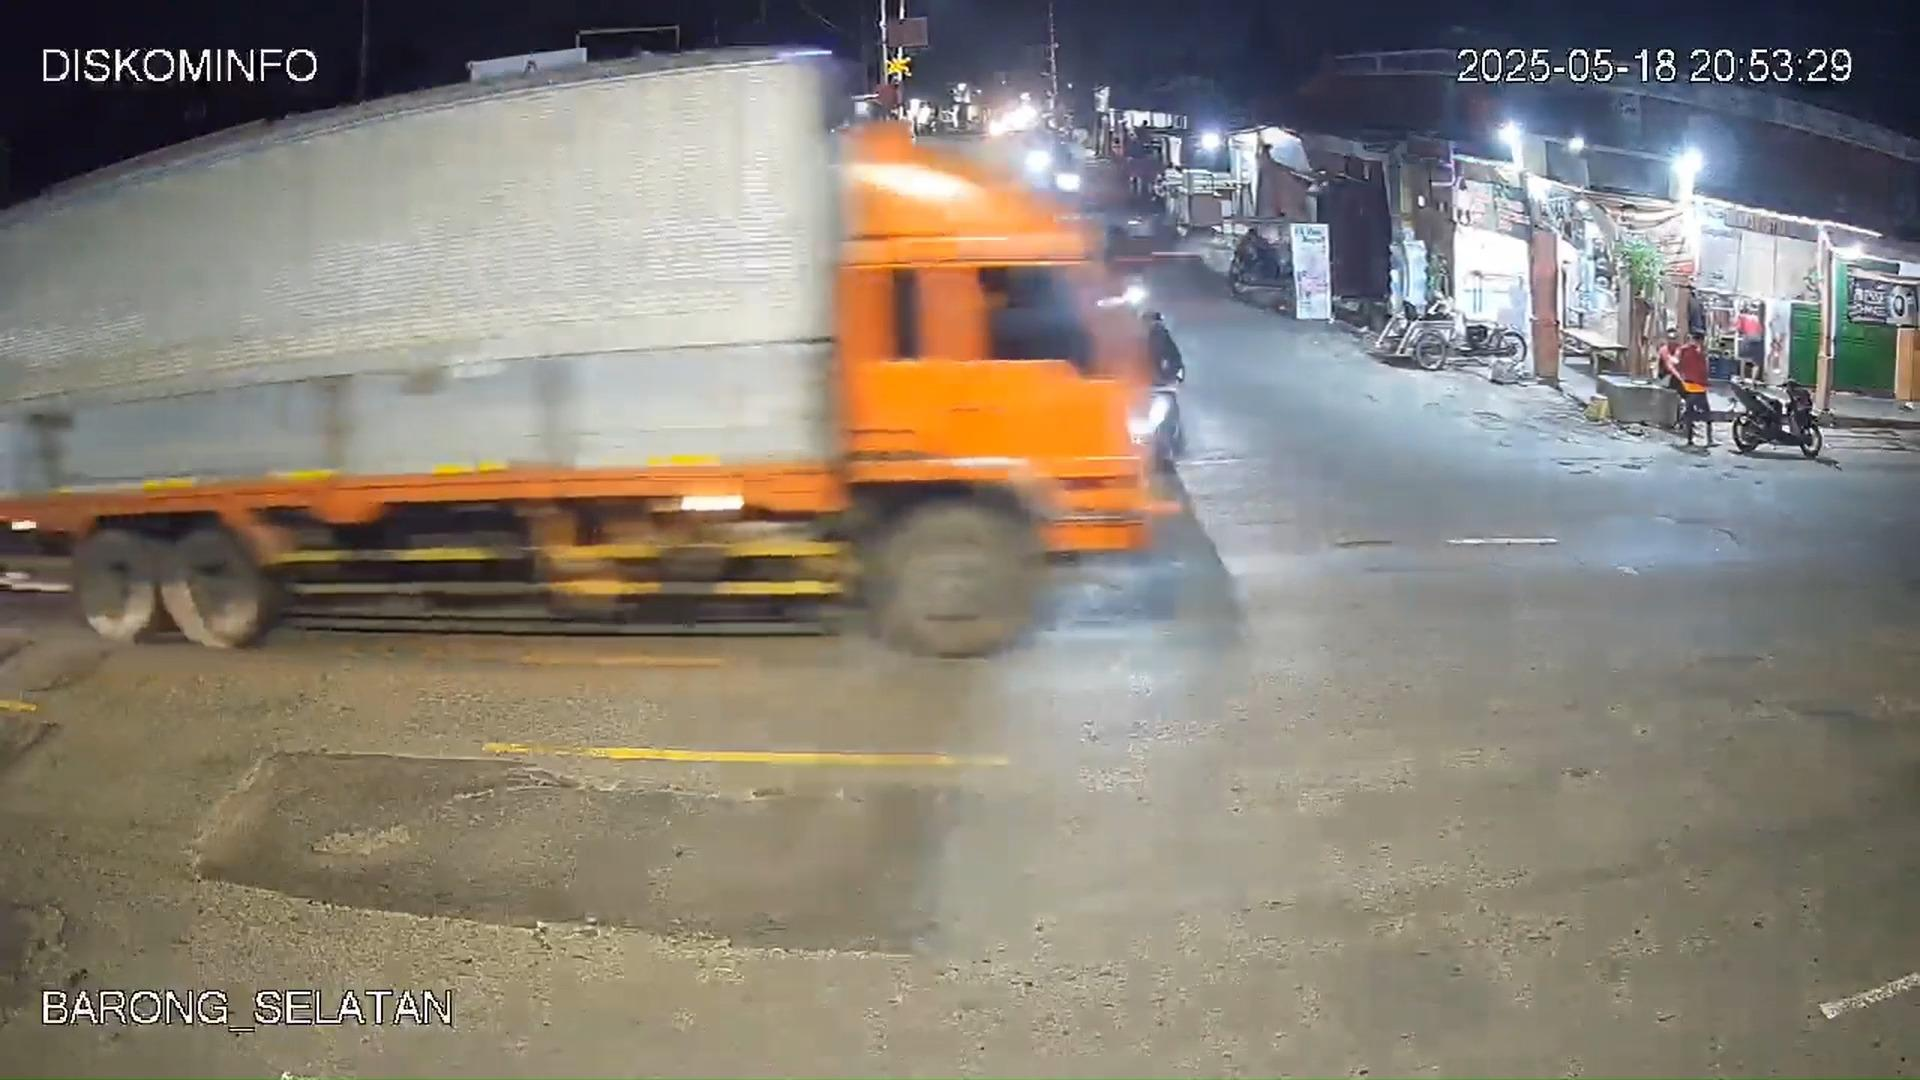Motor: (1135, 297, 1184, 464)
Truck: (0, 41, 1175, 699)
